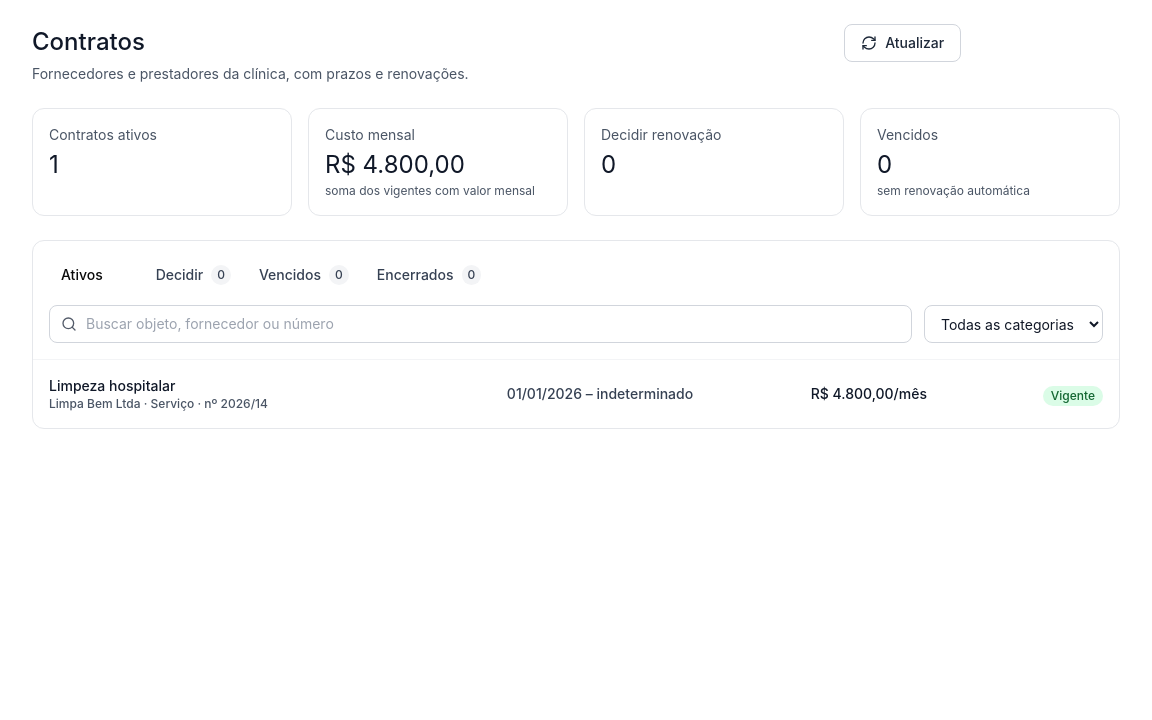
Test: Contratos: encerrar › manda o motivo, avisa e busca os contratos de novo
Click the button "Limpeza hospitalar". click: (576, 394)
box: x1=33 y1=360 x2=1119 y2=428
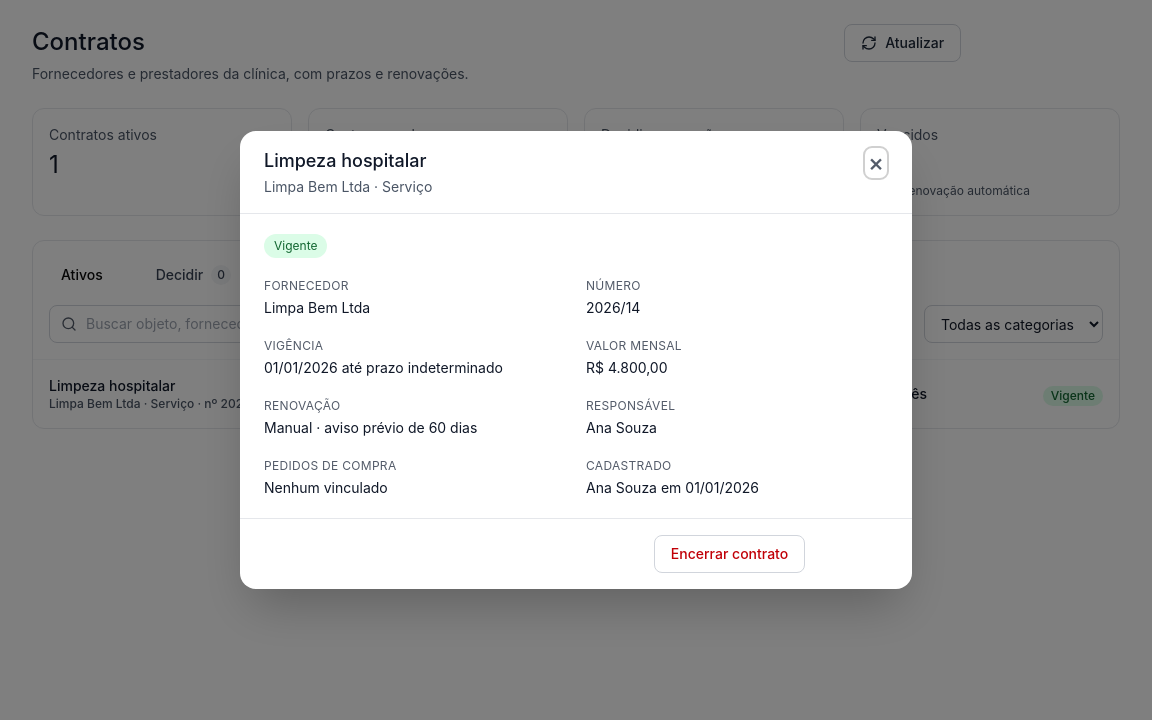
Click the button "Encerrar contrato". click: (729, 554)
box: x1=654 y1=535 x2=805 y2=573
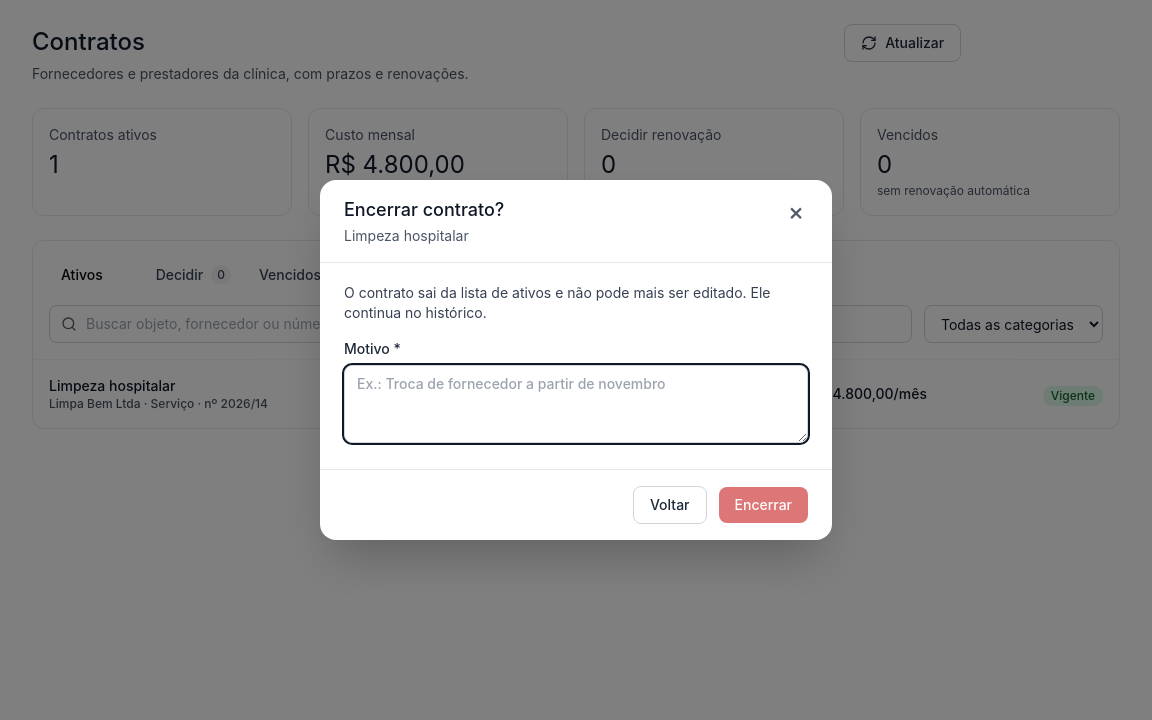
Result: the button "Encerrar" is disabled at x1=718 y1=487 x2=808 y2=523
Type "Troca de fornecedor a partir de novembro" into the text box labelled "Motivo *". click: (576, 404)
box: x1=344 y1=365 x2=808 y2=443
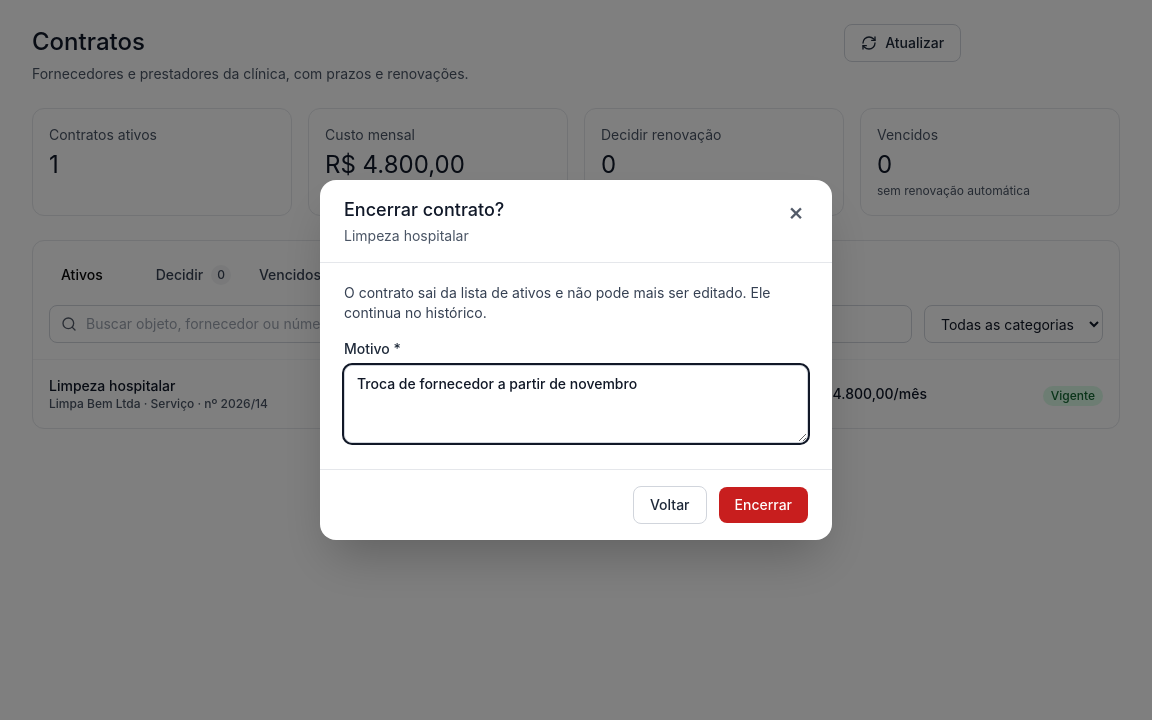
Click the button "Encerrar". click: (763, 505)
box: x1=718 y1=487 x2=808 y2=523
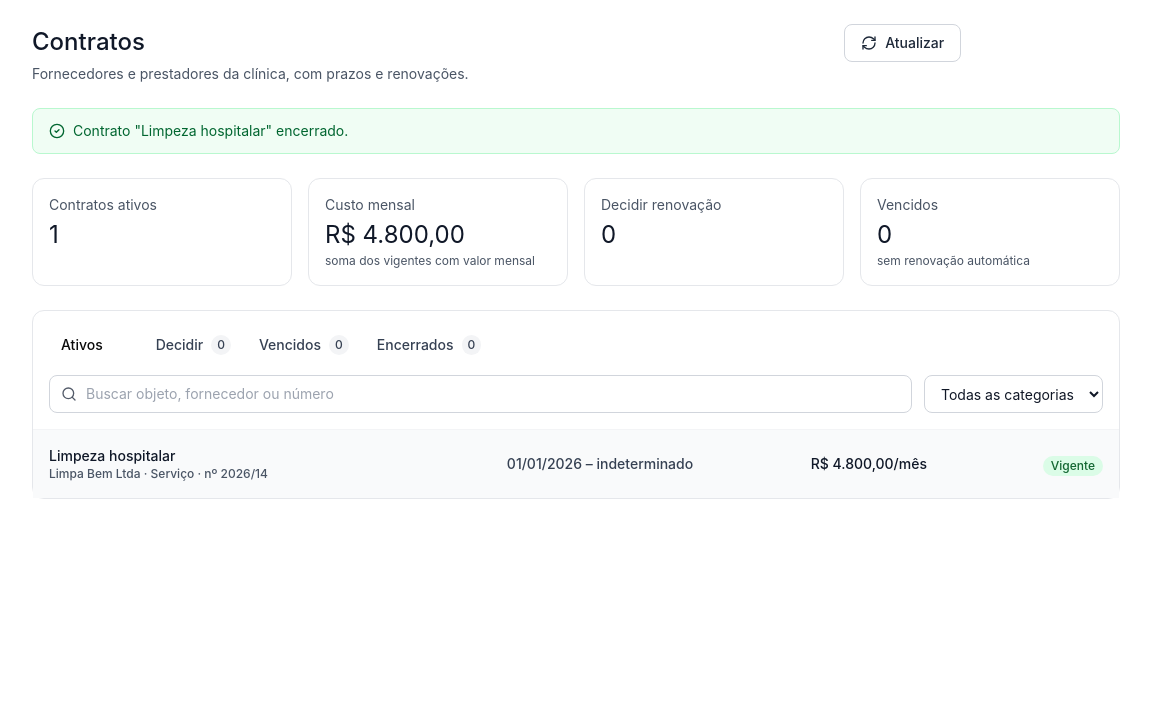
Result: the text "Contrato \"Limpeza hospitalar\" encerrado." is shown at x1=73 y1=121 x2=348 y2=141
